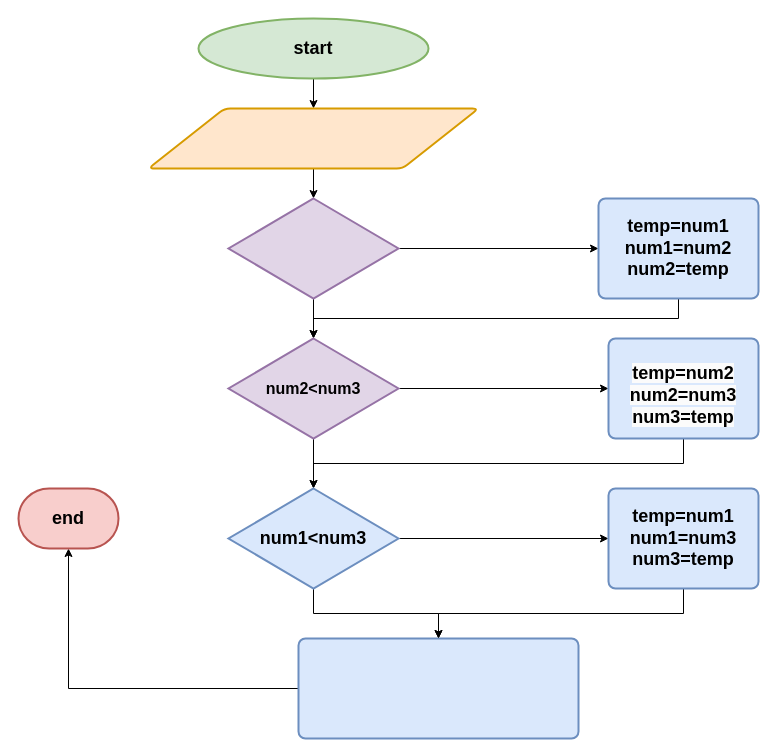
Some shapes in this 776 by 756 pixel diagram are drawn without their labels. The centre of each missing label's shape, as x and y in pixels:
(num1, num2; num3: (x=313, y=138)
num1<num2: (x=313, y=248)
print (num1, num2, num3): (x=438, y=688)
